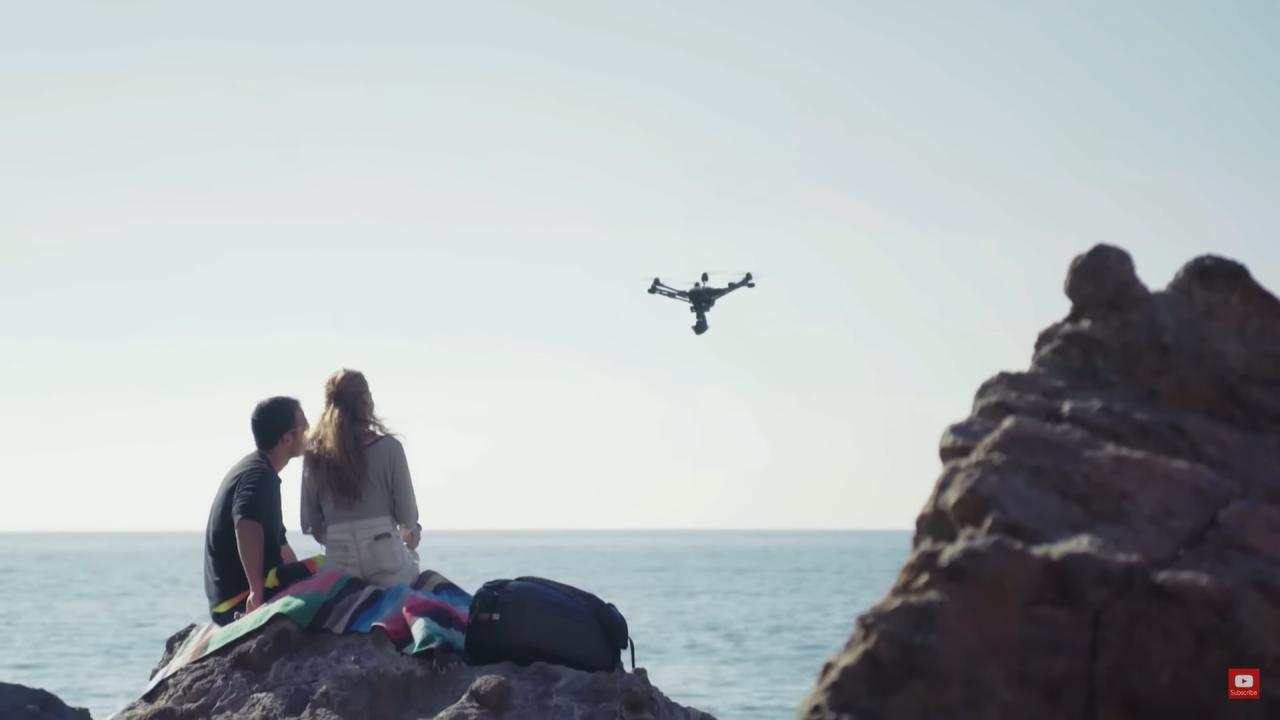Drone: (636, 262, 768, 345)
